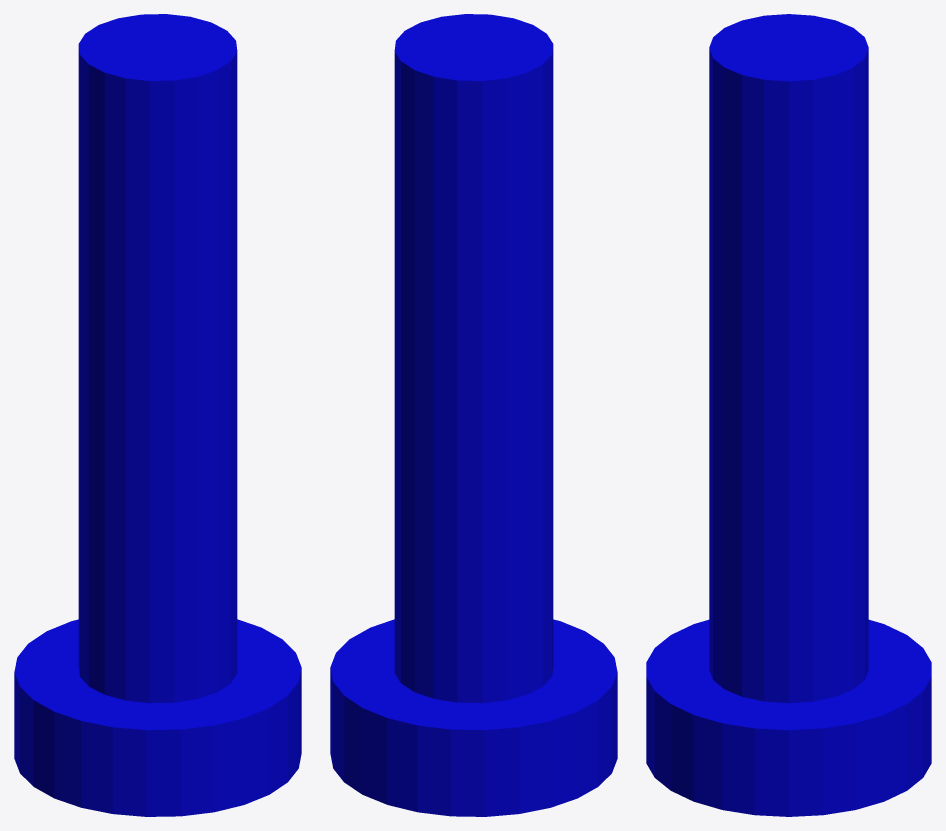
Rendered from blue_marker_can.dae.
3 renders of one model, left to right at view 1: azimuth 30°, elevation 25°; view 2: azimuth 150°, elevation 25°; view 3: azimuth 270°, elevation 25°, orthographic.
Parts seen in each view (by area): view 1: ShapeIndexedFaceSet; view 2: ShapeIndexedFaceSet; view 3: ShapeIndexedFaceSet.
Part boxes in pixels (box(x1,y1,x2,y2)): ShapeIndexedFaceSet: box(14, 14, 301, 816); ShapeIndexedFaceSet: box(330, 14, 617, 816); ShapeIndexedFaceSet: box(646, 14, 931, 816).
Size of the model in its own units: 0.4572 by 0.4539 by 1.24.
